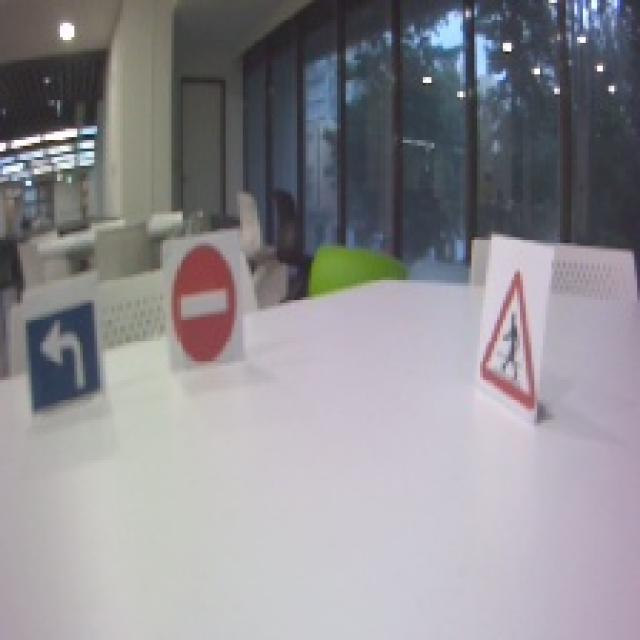DoNotEnterSign: (171, 242, 239, 362)
